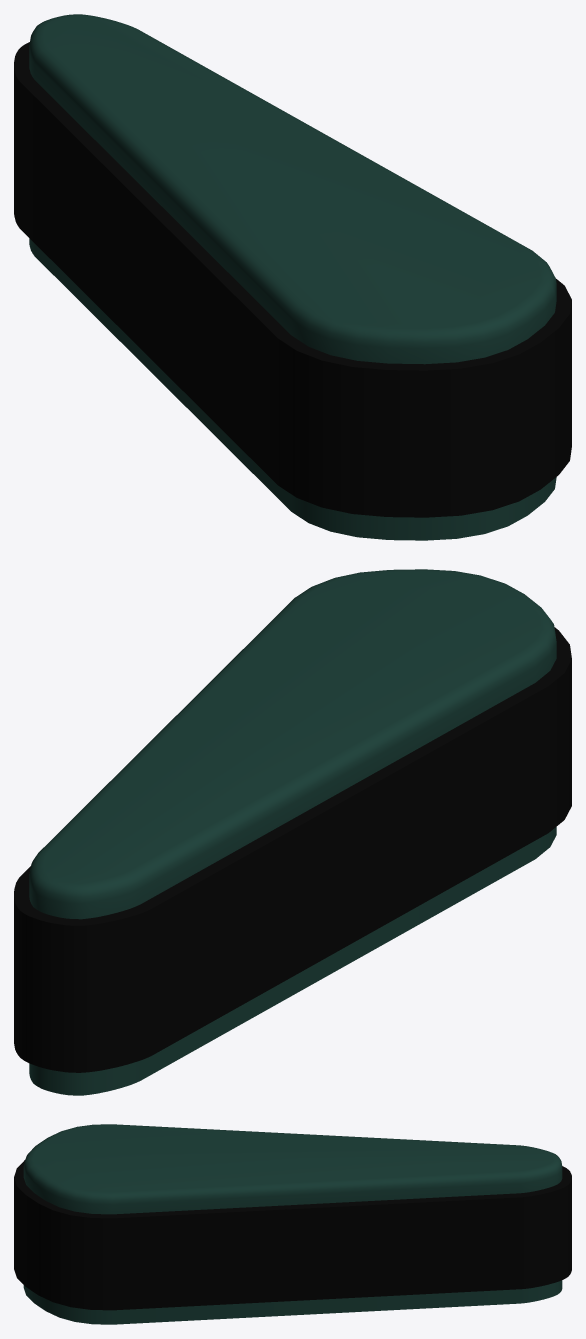
The model's file is flip.fbx.
The picture shows the model from 3 angles, top to bottom: view 1: azimuth 30°, elevation 25°; view 2: azimuth 150°, elevation 25°; view 3: azimuth 270°, elevation 25°; orthographic projection. The views are drawn at different scales.
Visible parts, largest first — view 1: Box017; view 2: Box017; view 3: Box017.
Part boxes in pixels (bbox=[...]): Box017: bbox=[14, 14, 571, 540]; Box017: bbox=[14, 569, 571, 1095]; Box017: bbox=[14, 1124, 571, 1324].
Bounding box in the file's own units: 99.06 × 72 × 283.
